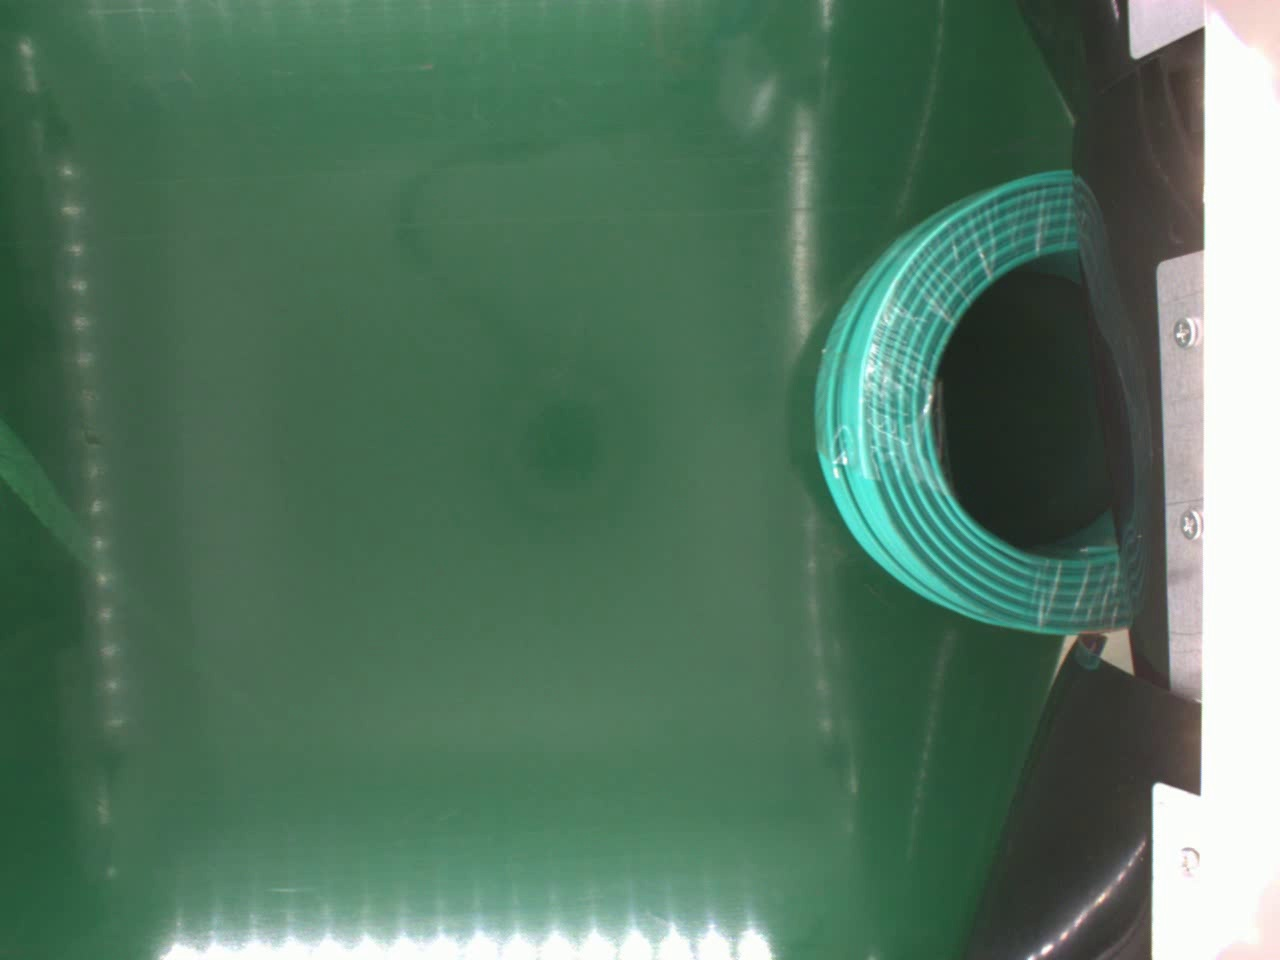green: (812, 168, 1131, 640)
